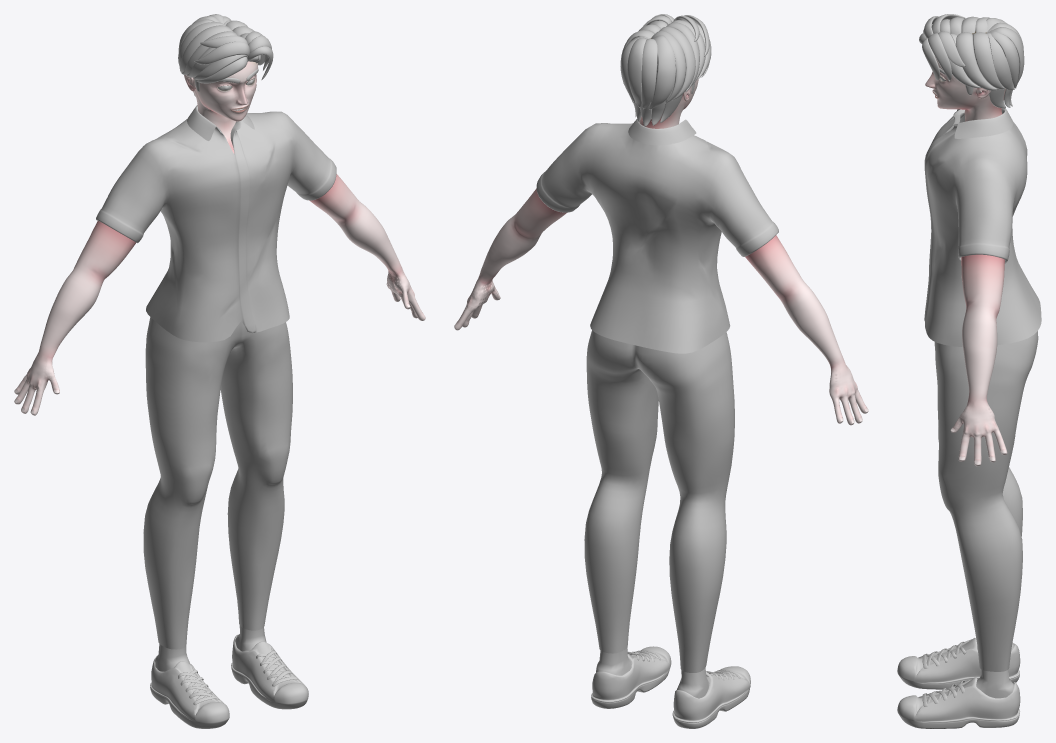
File: teo_1124.fbx
The picture shows the model from 3 angles, left to right: view 1: azimuth 30°, elevation 25°; view 2: azimuth 150°, elevation 25°; view 3: azimuth 270°, elevation 25°; orthographic projection.
Visible parts, largest first — view 1: pants, shirt1, arm, shoes, face, feet, hair_front_1_R1; view 2: pants, shirt1, arm, shoes, hair, feet, shirt2, hair_side_R5, hair_side_R6; view 3: pants, shirt1, shoes, arm, hair, face, shirt2, hair_side_L3, hair_side_L2, feet, hair_front_1_L2, hair_front_1_L3 (+2 smaller).
Boxes of the visible parts, left/top/right/bottom form: pants: left=143, top=317, right=292, bottom=649; shirt1: left=96, top=107, right=336, bottom=342; arm: left=14, top=174, right=425, bottom=415; shoes: left=150, top=634, right=308, bottom=728; face: left=184, top=61, right=257, bottom=153; feet: left=155, top=625, right=266, bottom=671; hair_front_1_R1: left=194, top=41, right=249, bottom=64; pants: left=584, top=330, right=734, bottom=672; shirt1: left=536, top=123, right=778, bottom=353; arm: left=454, top=188, right=868, bottom=425; shoes: left=591, top=646, right=750, bottom=728; hair: left=620, top=35, right=682, bottom=126; feet: left=596, top=648, right=709, bottom=698; shirt2: left=628, top=119, right=696, bottom=145; hair_side_R5: left=659, top=26, right=695, bottom=99; hair_side_R6: left=651, top=30, right=685, bottom=103; pants: left=934, top=331, right=1038, bottom=671; shirt1: left=924, top=108, right=1041, bottom=346; shoes: left=897, top=638, right=1020, bottom=728; arm: left=950, top=254, right=1007, bottom=466; hair: left=986, top=18, right=1024, bottom=108; face: left=925, top=31, right=1005, bottom=121; shirt2: left=954, top=108, right=1013, bottom=138; hair_side_L3: left=972, top=32, right=1004, bottom=89; hair_side_L2: left=956, top=32, right=998, bottom=90; feet: left=976, top=642, right=1014, bottom=698; hair_front_1_L2: left=928, top=33, right=951, bottom=81; hair_front_1_L3: left=938, top=31, right=965, bottom=67.
Size of the model in its own units: 120 by 193 by 37.09.
